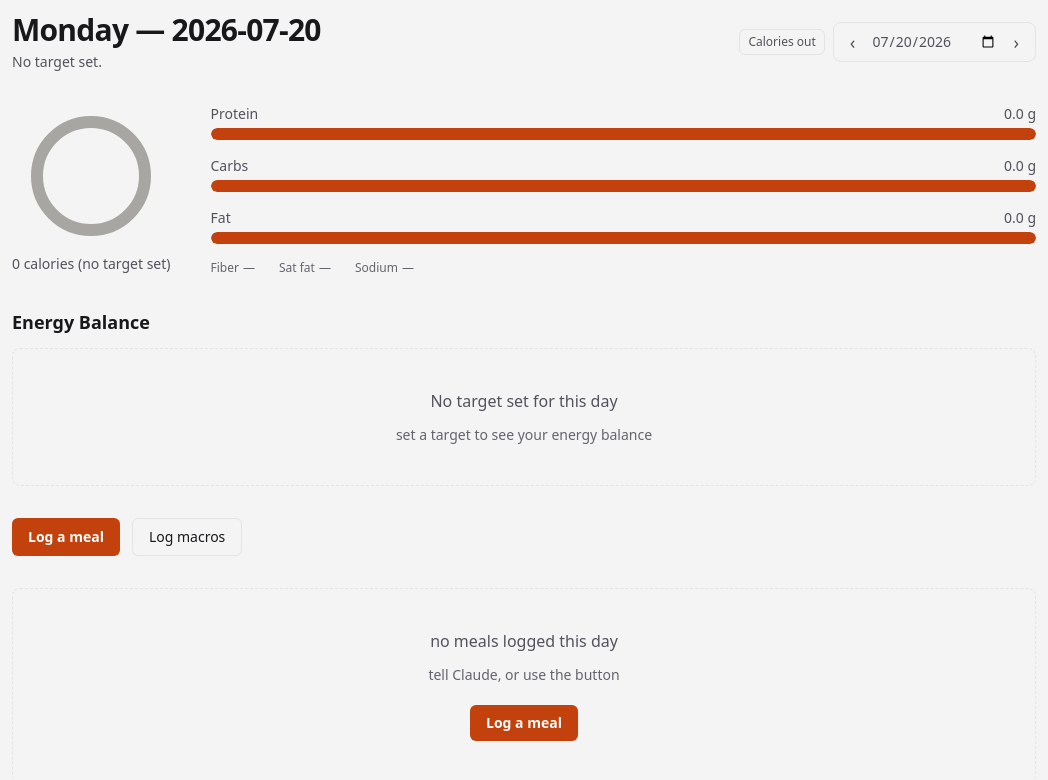
it: DayView › date picker › steps to the previous day and navigates to /day/:date
Check: the heading "Monday — 2026-07-20" is shown, box [12,12,321,48]
Click the button named "previous day".
click(853, 42)  # box [842,29,863,55]
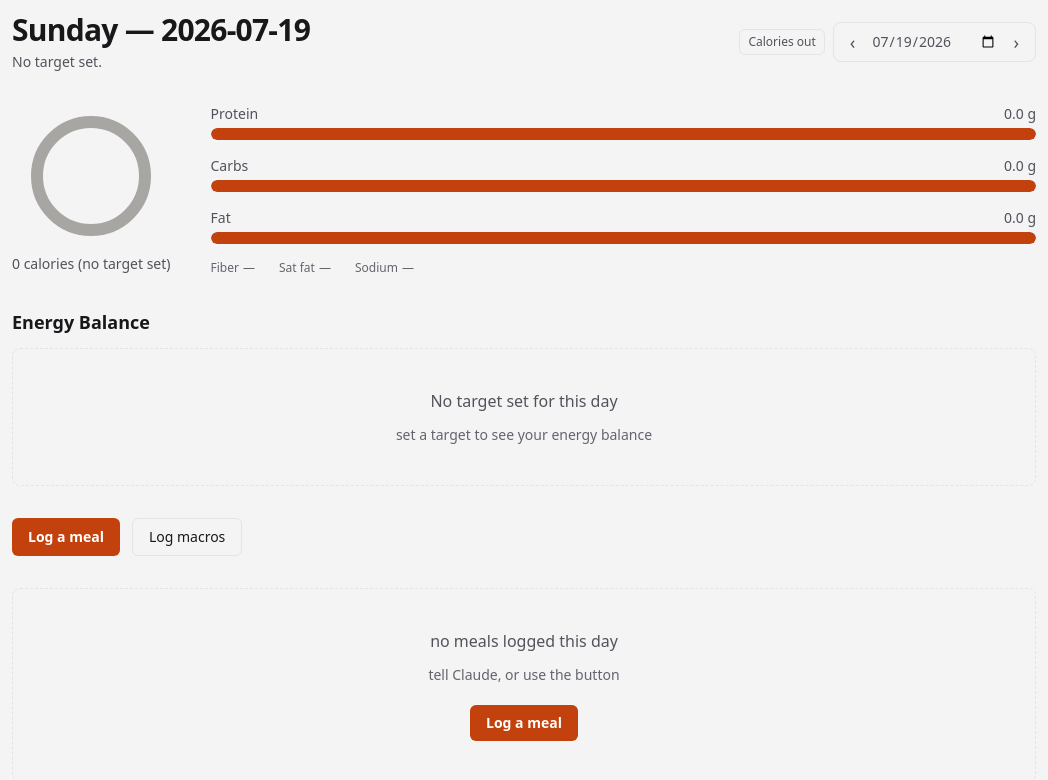
Check: the heading "Sunday — 2026-07-19" is shown, box [12,12,310,48]
